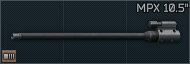MPX 9x19 10.5 inch barrel: (0, 0, 190, 64)
